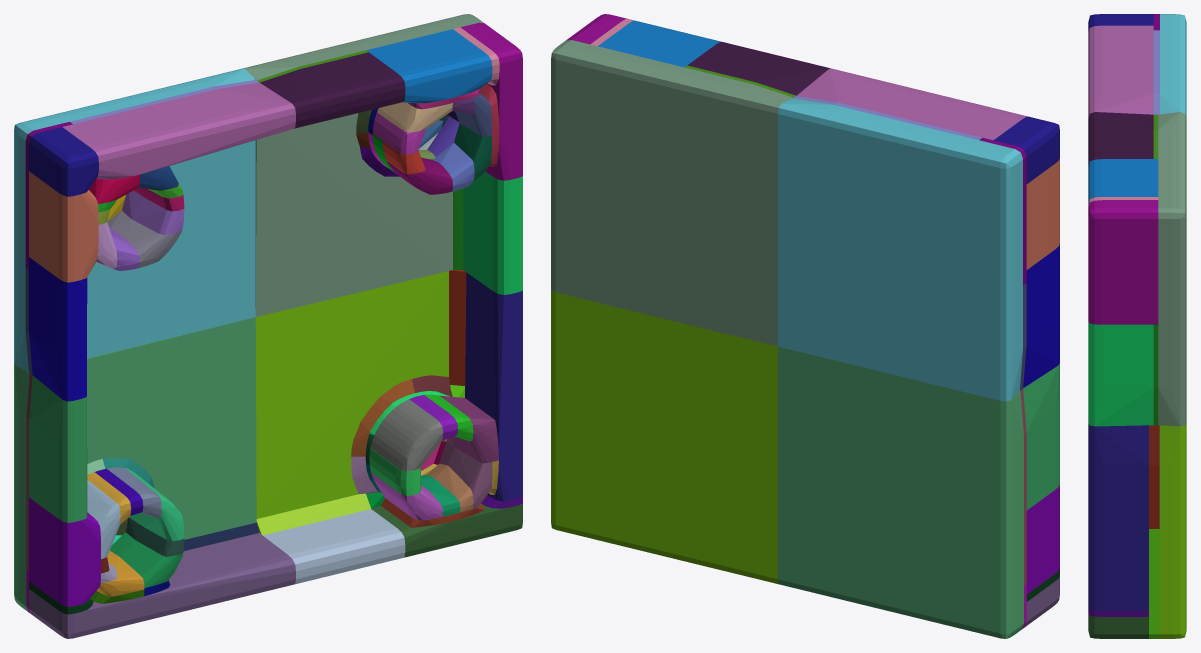
The model's file is square_table_top_canonical.obj.
3 renders of one model, left to right at view 1: azimuth 30°, elevation 25°; view 2: azimuth 150°, elevation 25°; view 3: azimuth 270°, elevation 25°, orthographic. The views are drawn at different scales.
Parts seen in each view (by area): view 1: geometry_0, geometry_3, geometry_4, geometry_2, geometry_7, geometry_1, geometry_18, geometry_10, geometry_5, geometry_23, geometry_26, geometry_6 (+44 smaller); view 2: geometry_2, geometry_3, geometry_0, geometry_4, geometry_7, geometry_10, geometry_5, geometry_26, geometry_29, geometry_9, geometry_32, geometry_20 (+4 smaller); view 3: geometry_18, geometry_0, geometry_14, geometry_23, geometry_4, geometry_7, geometry_26, geometry_29, geometry_2, geometry_19, geometry_17, geometry_15 (+6 smaller).
Boxes of the visible parts, box(x1,y1,x2,y2) form: geometry_0: box(242, 14, 484, 316); geometry_3: box(14, 317, 256, 611); geometry_4: box(255, 271, 448, 518); geometry_2: box(14, 68, 255, 372); geometry_7: box(62, 82, 295, 179); geometry_1: box(29, 533, 295, 638); geometry_18: box(465, 272, 522, 501); geometry_10: box(29, 375, 87, 522); geometry_5: box(29, 257, 87, 401); geometry_23: box(463, 171, 522, 294); geometry_26: box(260, 52, 405, 128); geometry_6: box(263, 509, 405, 583); geometry_2: box(778, 98, 1022, 401); geometry_3: box(778, 346, 1023, 638); geometry_0: box(551, 40, 793, 346); geometry_4: box(551, 290, 778, 584); geometry_7: box(797, 68, 1027, 140); geometry_10: box(1023, 363, 1059, 510); geometry_5: box(1023, 244, 1059, 388); geometry_26: box(687, 42, 830, 95); geometry_29: box(598, 20, 721, 67); geometry_9: box(1026, 158, 1059, 269); geometry_32: box(1026, 484, 1059, 594); geometry_20: box(994, 116, 1059, 183); geometry_18: box(1088, 423, 1148, 610); geometry_0: box(1158, 112, 1186, 426); geometry_14: box(1088, 200, 1158, 324); geometry_23: box(1088, 321, 1153, 426); geometry_4: box(1159, 423, 1186, 638); geometry_7: box(1088, 25, 1153, 117); geometry_26: box(1088, 112, 1153, 165); geometry_29: box(1088, 159, 1158, 203); geometry_2: box(1160, 14, 1186, 118); geometry_19: box(1088, 614, 1148, 638); geometry_17: box(1149, 529, 1159, 638); geometry_15: box(1149, 425, 1159, 528).
Size of the model in its own units: 0.1655 by 0.1655 by 0.0342.
